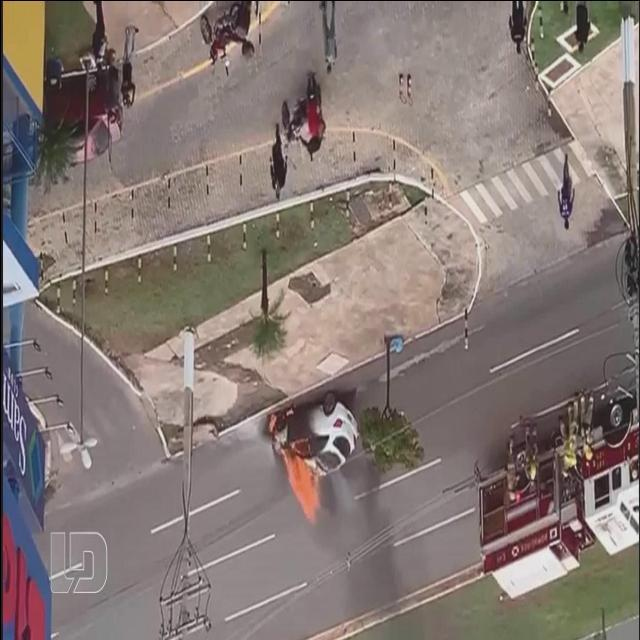Fire: (281, 450, 323, 522), (267, 412, 277, 432)
